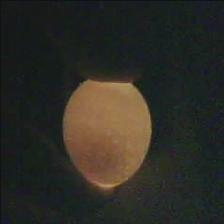infertile: (60, 74, 152, 188)
